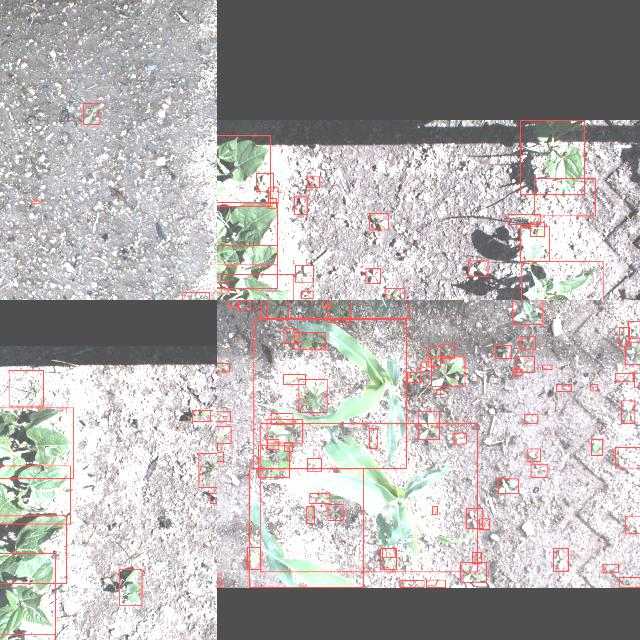crop: (259, 423, 477, 572), (253, 319, 405, 469), (248, 468, 364, 588), (0, 407, 73, 478), (0, 553, 55, 640), (520, 120, 584, 194), (0, 516, 65, 584), (0, 466, 70, 524), (217, 201, 277, 264), (217, 134, 269, 205), (520, 261, 602, 300), (260, 300, 408, 318), (217, 245, 277, 288), (217, 274, 292, 300), (520, 226, 548, 262)
weed: (534, 178, 594, 216), (8, 370, 42, 406), (430, 356, 464, 386), (258, 446, 288, 478), (298, 380, 326, 412), (118, 569, 142, 605), (266, 419, 302, 443), (512, 300, 542, 323), (198, 453, 217, 487), (418, 410, 438, 440), (614, 448, 640, 468), (460, 563, 486, 583), (293, 332, 325, 348), (326, 300, 349, 322), (552, 548, 568, 572), (266, 300, 287, 318), (368, 212, 388, 230), (624, 342, 640, 364), (380, 548, 396, 570), (255, 172, 272, 192), (83, 104, 99, 125), (295, 264, 313, 282), (620, 401, 634, 424), (508, 214, 540, 224), (467, 260, 487, 276), (497, 478, 517, 494), (466, 509, 482, 529), (246, 548, 260, 570), (516, 356, 534, 372), (625, 516, 640, 534), (530, 464, 548, 478), (182, 291, 209, 300), (427, 346, 439, 366), (217, 426, 230, 444), (366, 268, 380, 284), (328, 504, 342, 520), (284, 328, 298, 344), (618, 578, 640, 588), (270, 414, 292, 424), (283, 374, 305, 384), (385, 288, 403, 300), (294, 196, 306, 214), (628, 320, 640, 337), (619, 326, 629, 346), (309, 493, 329, 503), (191, 411, 209, 422), (529, 222, 543, 236), (526, 448, 540, 462), (307, 458, 321, 472), (440, 344, 454, 358), (590, 439, 602, 455), (495, 346, 511, 358), (399, 580, 423, 588), (520, 336, 534, 349), (268, 187, 278, 203), (602, 564, 618, 574), (368, 428, 376, 448), (615, 373, 633, 381), (426, 580, 444, 588), (306, 506, 314, 524), (523, 414, 537, 424), (453, 432, 465, 443), (217, 412, 230, 422), (307, 177, 319, 187), (479, 518, 489, 530), (382, 548, 394, 558), (266, 439, 278, 449), (420, 361, 432, 371), (408, 372, 420, 382), (238, 300, 250, 310), (556, 384, 570, 392), (472, 552, 481, 564), (217, 362, 229, 371), (633, 372, 640, 387), (217, 283, 227, 293), (301, 291, 313, 299), (267, 198, 275, 208), (209, 493, 217, 503), (511, 368, 521, 376), (284, 442, 292, 452), (228, 300, 237, 307), (217, 452, 223, 462), (541, 364, 551, 370), (322, 300, 329, 306), (590, 384, 596, 391), (435, 390, 443, 394), (432, 507, 436, 515), (32, 200, 40, 203)
